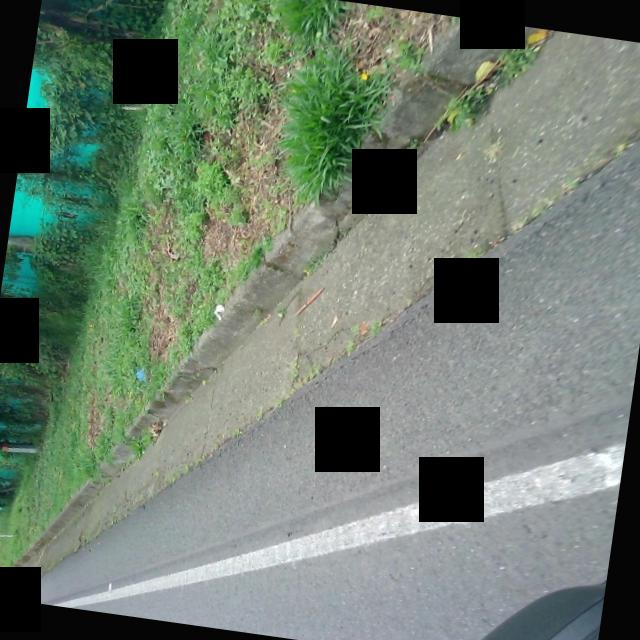DITCH: (0, 0, 640, 640), (22, 0, 640, 640)
